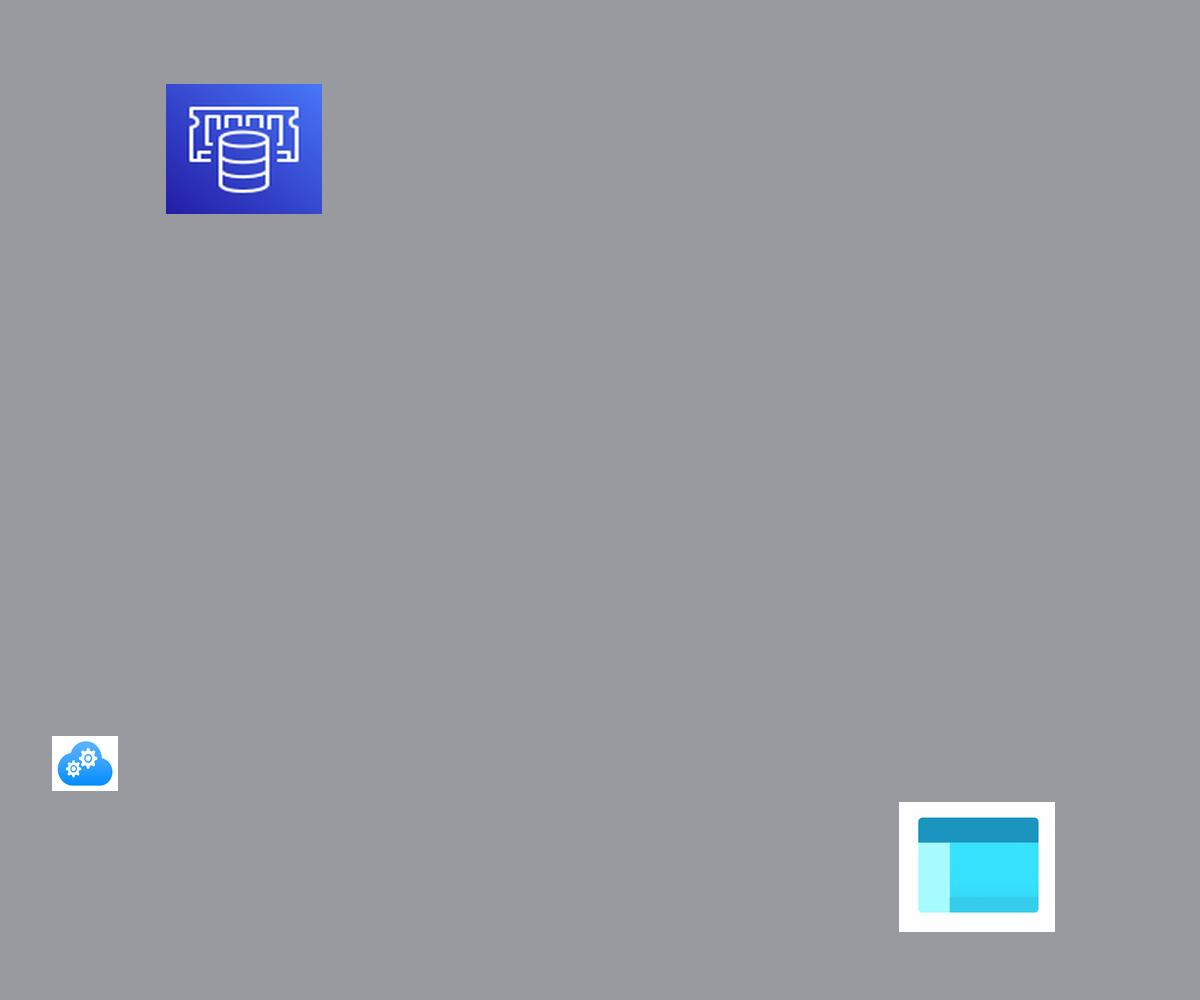AWS-ElastiCache: (166, 84, 322, 214)
Azure_cloud_services: (52, 736, 118, 791)
Azure_management-portal: (899, 802, 1055, 932)
